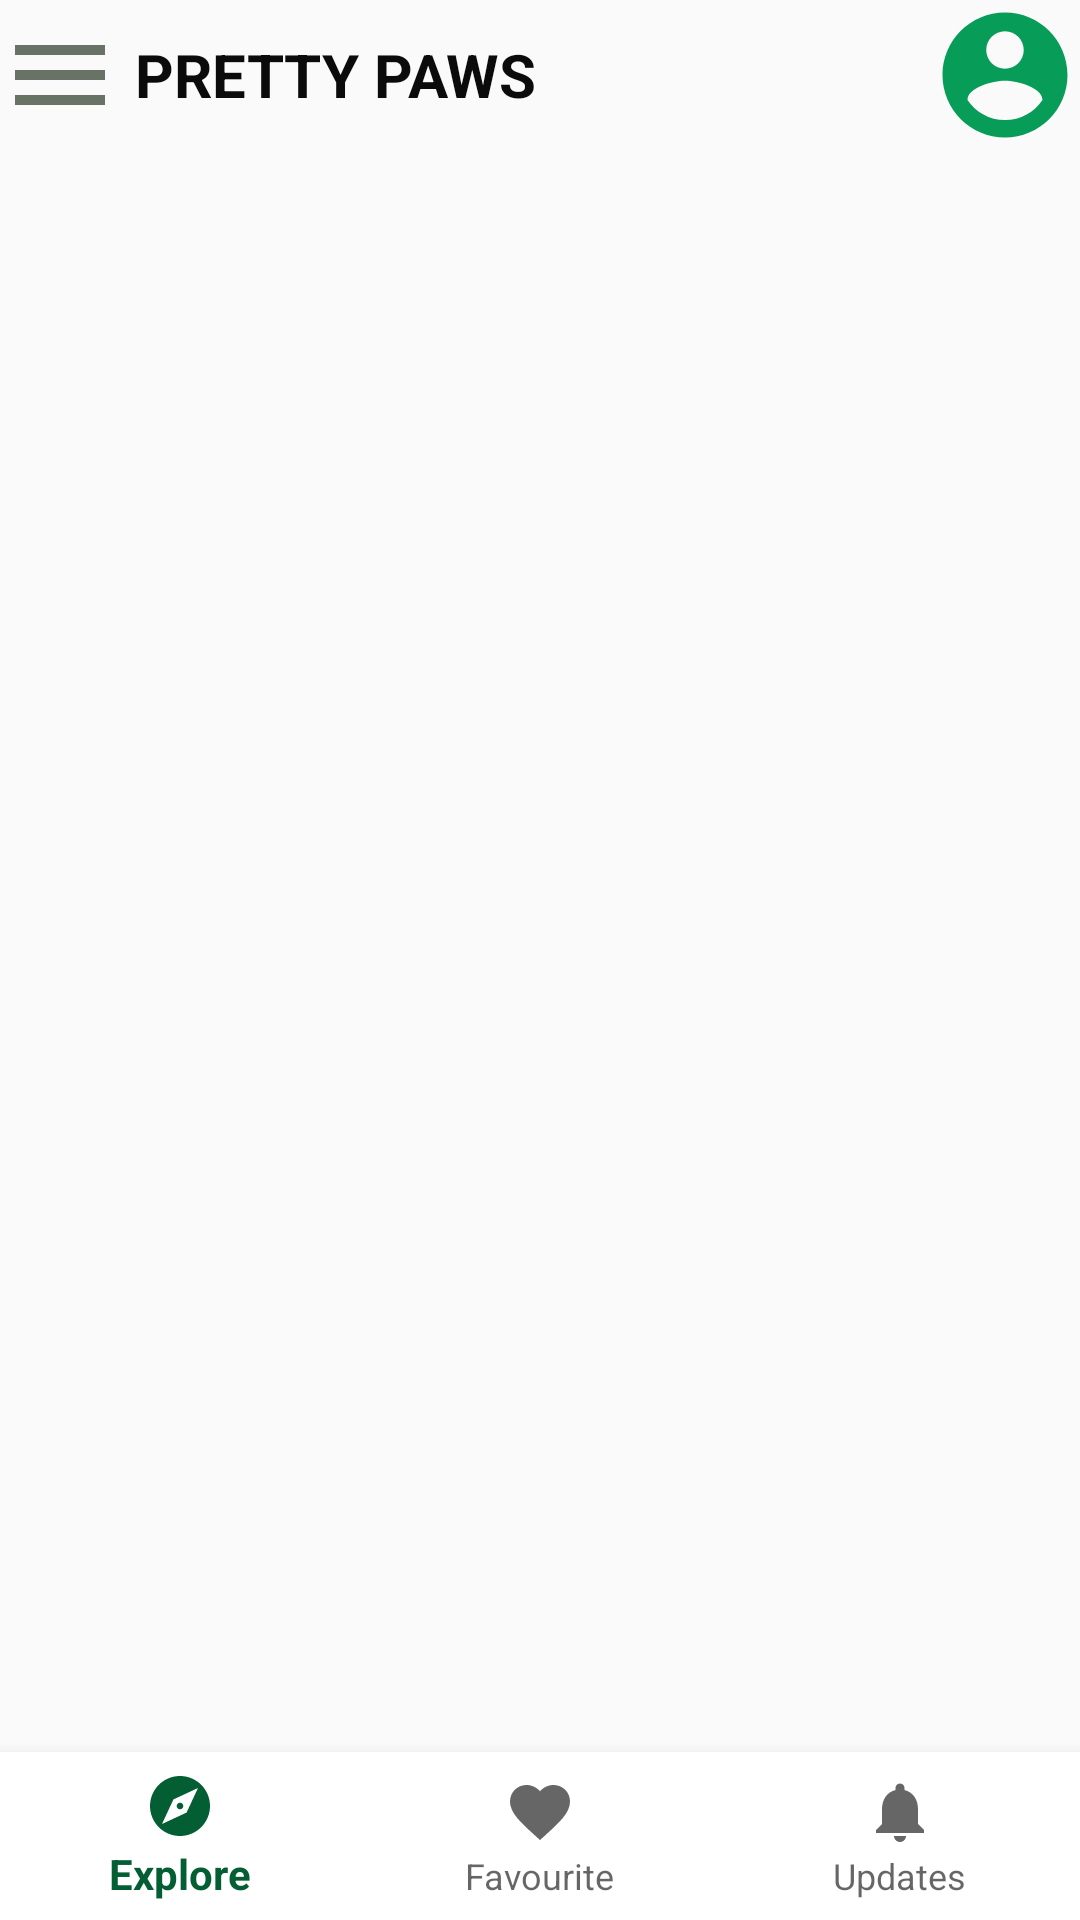

Named icons in this screenshot (1080*1920) and their centers, (x,y):
account: (1005,75)
menu: (60,75)
